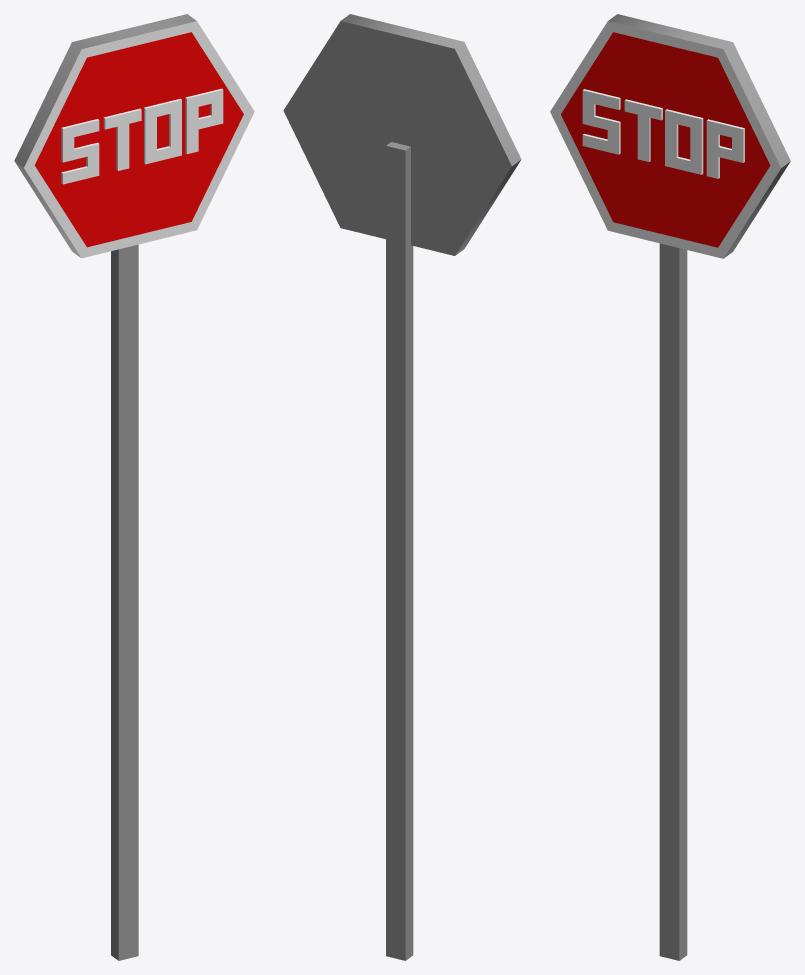
Rendered from SM_StopSign_01.FBX.
The picture shows the model from 3 angles, left to right: view 1: azimuth 30°, elevation 25°; view 2: azimuth 150°, elevation 25°; view 3: azimuth 330°, elevation 25°; orthographic projection.
Visible parts, largest first — view 1: SM_StopSign_01; view 2: SM_StopSign_01; view 3: SM_StopSign_01.
Boxes of the visible parts, bbox=[...] form: SM_StopSign_01: bbox=[14, 14, 254, 960]; SM_StopSign_01: bbox=[283, 14, 521, 960]; SM_StopSign_01: bbox=[550, 14, 790, 960].
Size of the model in its own units: 0.5904 by 2.27 by 0.0812.
2 materials, 2 textured.
